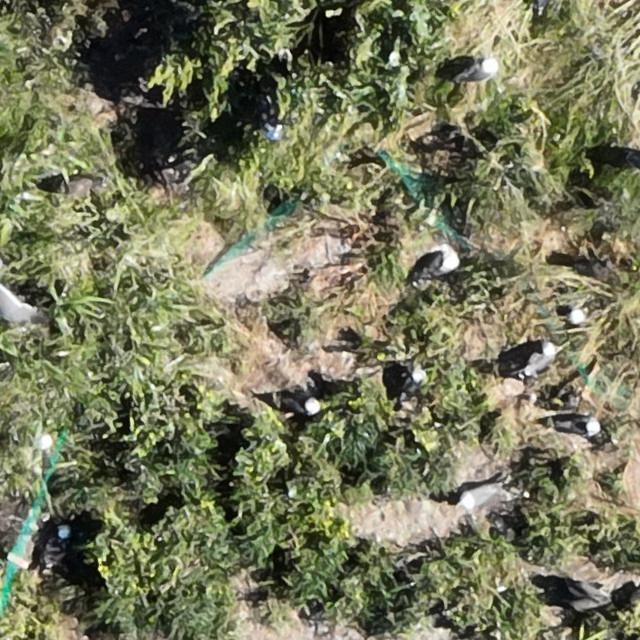umineko: (45, 526, 75, 574), (458, 480, 506, 509), (280, 392, 320, 417), (525, 342, 556, 372), (418, 252, 453, 276), (568, 299, 598, 325), (463, 59, 497, 80), (560, 417, 598, 435), (403, 369, 424, 397), (34, 436, 57, 454), (627, 152, 639, 172)
